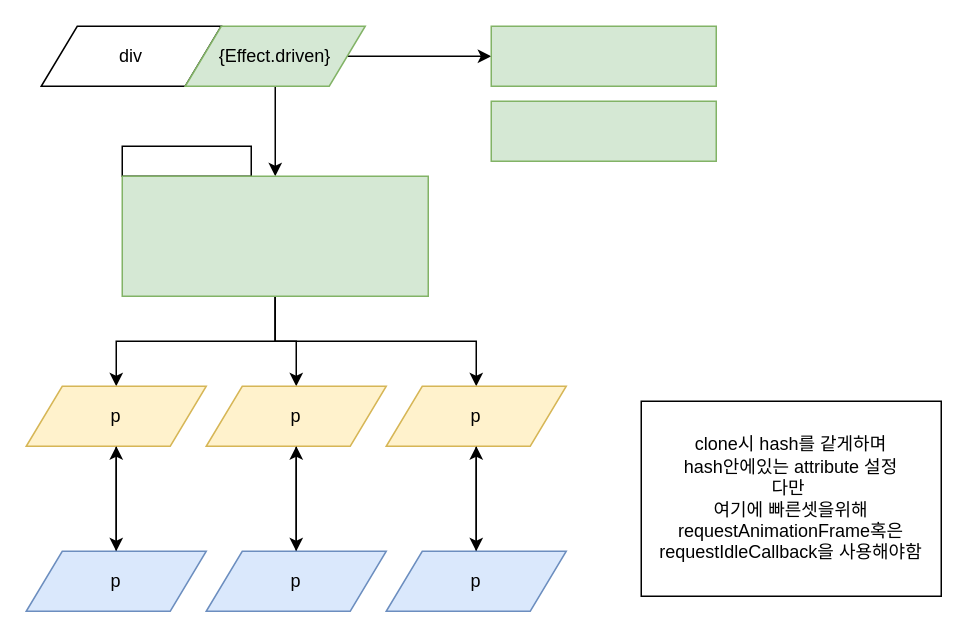
The diagram is 968 pixels wide and 638 high, and some of its shapes have lost their labels. Each missing label, with the centre of its shape:
class="fixed @store.class": (x=603, y=130)
id="@store.id": (x=603, y=55)
p.child1 p.child2 p#childN ...: (x=274, y=235)
slot: (x=186, y=160)
